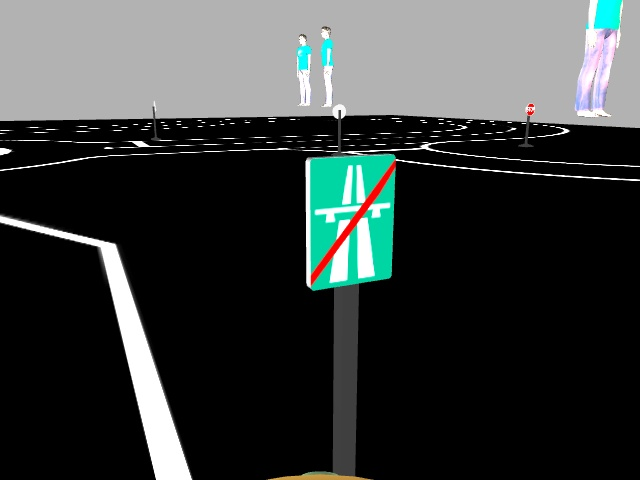HighwayExit: (304, 155, 392, 287)
